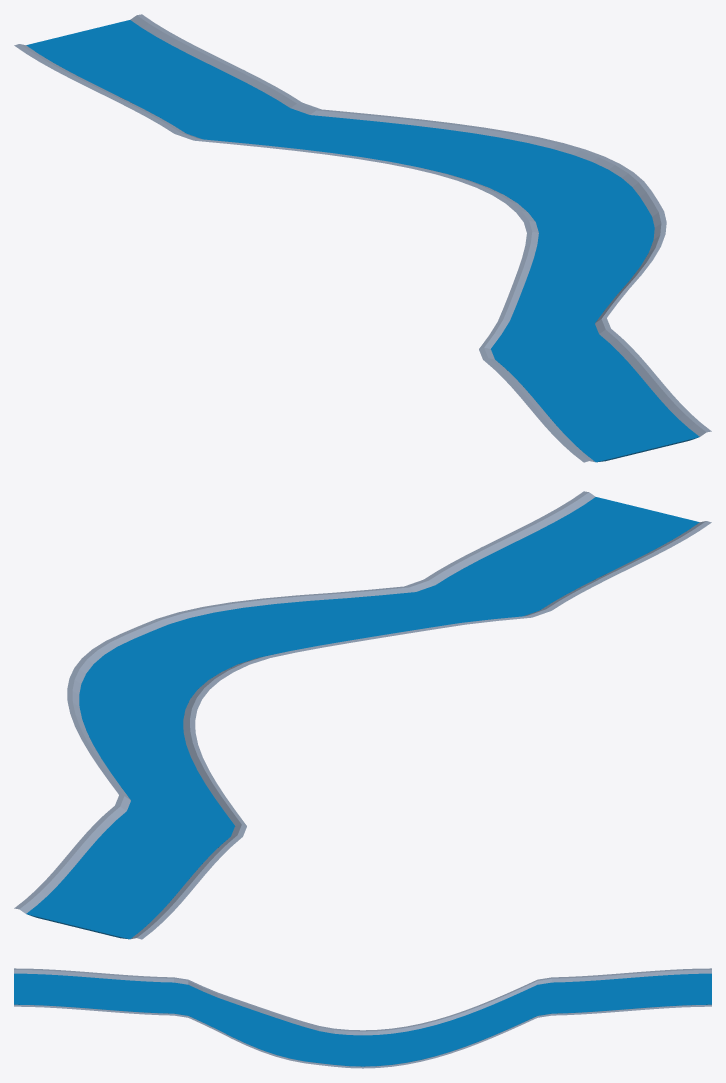
File: saigon_river_spline.glb
3 views of the same model, one above another, from view 1: azimuth 30°, elevation 25°; view 2: azimuth 150°, elevation 25°; view 3: azimuth 270°, elevation 25° (orthographic). The views are drawn at different scales.
Visible parts, largest first — view 1: SaigonRiverSpline; view 2: SaigonRiverSpline; view 3: SaigonRiverSpline.
Part boxes in pixels (box(x1,y1,x2,y2)): SaigonRiverSpline: box(14, 14, 711, 462); SaigonRiverSpline: box(14, 491, 711, 939); SaigonRiverSpline: box(14, 968, 711, 1068).
Bounding box in the file's own units: 5.02 × 0.06 × 14.8.
